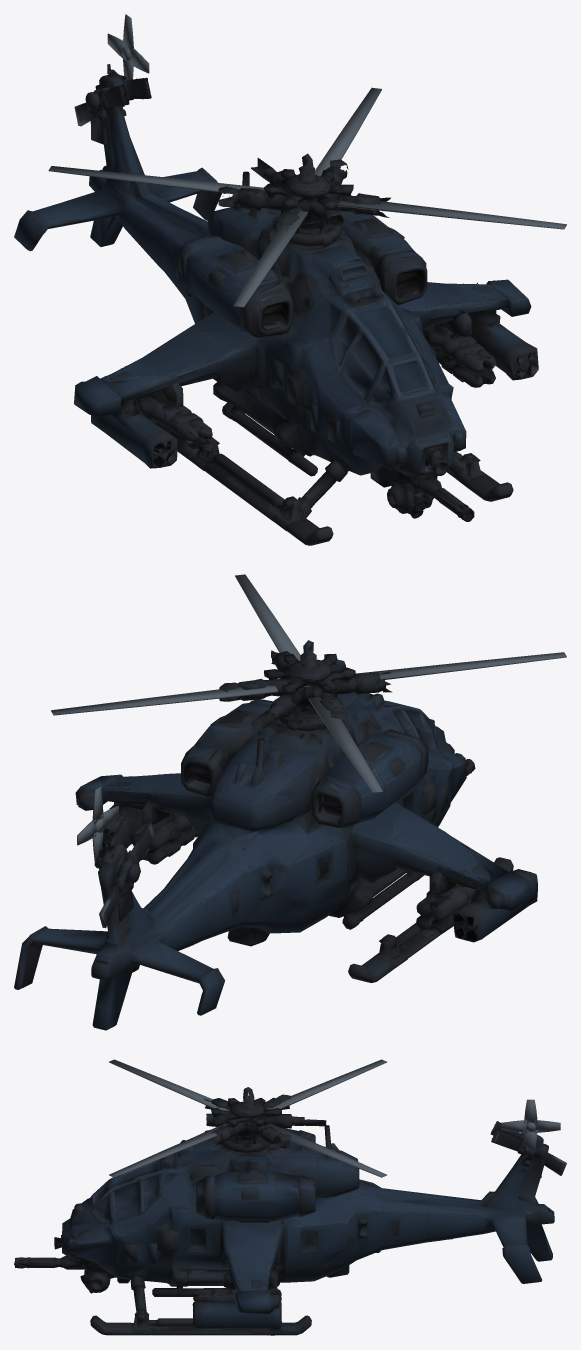
File: blue-h8-lod2.fbx
3 renders of one model, top to bottom at view 1: azimuth 30°, elevation 25°; view 2: azimuth 150°, elevation 25°; view 3: azimuth 270°, elevation 25°, orthographic. The views are drawn at different scales.
Visible parts, largest first — view 1: Body, PortWeaponPod, RotorBlades, RotorHub, StarboardWeaponPod, TailRotorBlades; view 2: Body, RotorBlades, RotorHub, PortWeaponPod, StarboardWeaponPod, TailRotorBlades; view 3: Body, StarboardWeaponPod, RotorHub, RotorBlades, TailRotorBlades, ChinGun.
Boxes of the visible parts, x1,y1,x2,y2 form: Body: [14, 64, 513, 545]; PortWeaponPod: [74, 359, 211, 468]; RotorBlades: [48, 87, 566, 307]; RotorHub: [218, 153, 390, 240]; StarboardWeaponPod: [429, 279, 538, 383]; TailRotorBlades: [107, 14, 149, 79]; Body: [14, 692, 513, 1030]; RotorBlades: [51, 574, 566, 793]; RotorHub: [219, 640, 392, 732]; PortWeaponPod: [424, 824, 537, 942]; StarboardWeaponPod: [75, 773, 172, 858]; TailRotorBlades: [77, 786, 118, 863]; Body: [15, 1121, 566, 1335]; StarboardWeaponPod: [193, 1250, 281, 1329]; RotorHub: [204, 1087, 326, 1148]; RotorBlades: [109, 1059, 386, 1177]; TailRotorBlades: [501, 1099, 560, 1152]; ChinGun: [14, 1258, 60, 1268].
Bounding box in the file's own units: 1283 × 820 × 1921.
